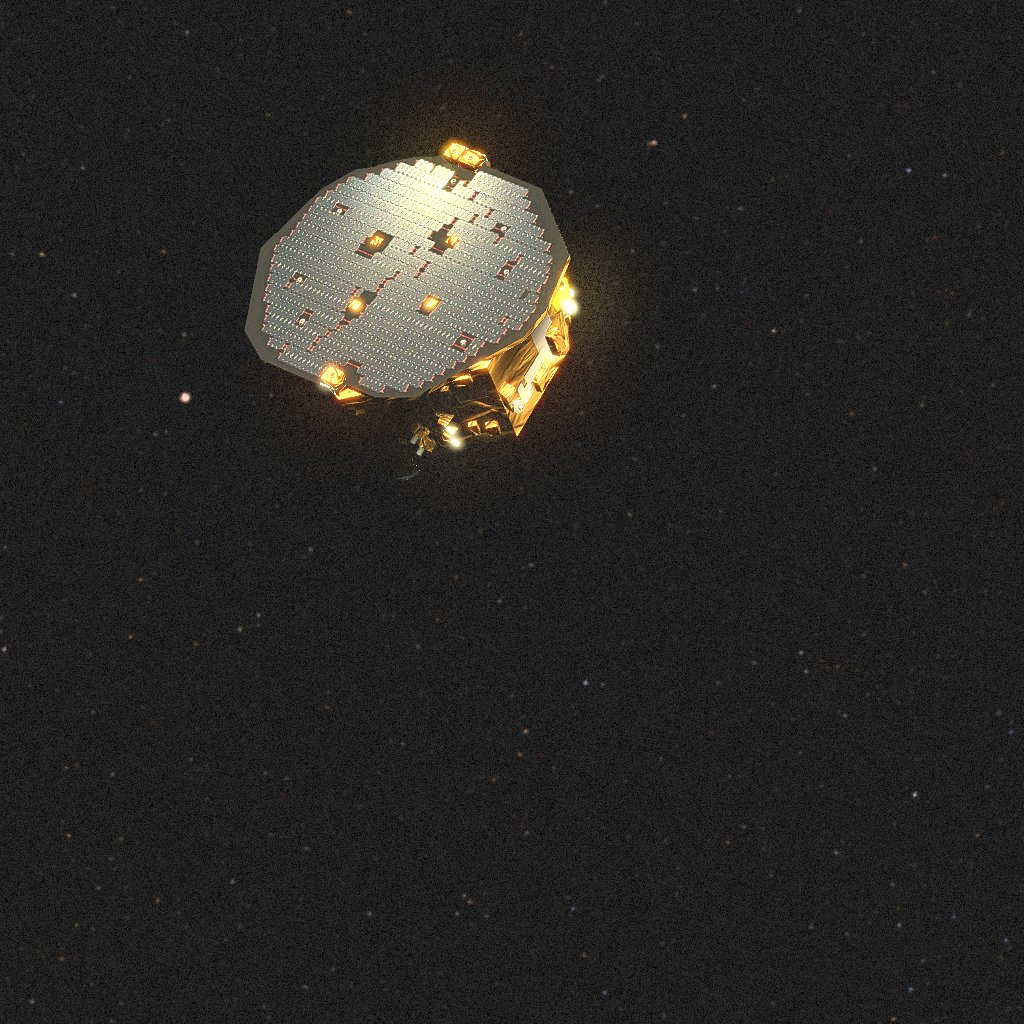lisa_pathfinder: (244, 136, 580, 485)
